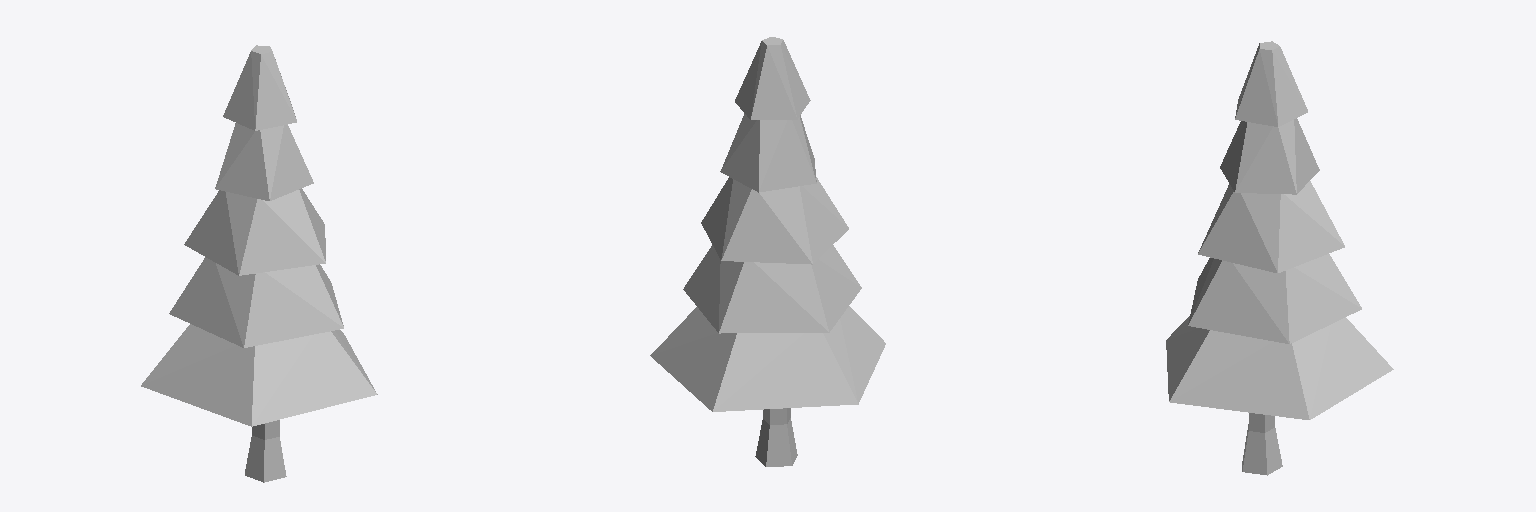
The model's file is tree.obj.
3 renders of one model, left to right at view 1: azimuth 30°, elevation 25°; view 2: azimuth 150°, elevation 25°; view 3: azimuth 270°, elevation 25°, orthographic.
Visible parts, largest first — view 1: Cylinder.005_Cylinder.003; view 2: Cylinder.005_Cylinder.003; view 3: Cylinder.005_Cylinder.003.
Part boxes in pixels (x1,y1,x2,y2): Cylinder.005_Cylinder.003: (141, 45, 377, 482); Cylinder.005_Cylinder.003: (650, 37, 885, 466); Cylinder.005_Cylinder.003: (1166, 41, 1393, 475).
Bounding box in the file's own units: 2.96 × 5.77 × 2.83.